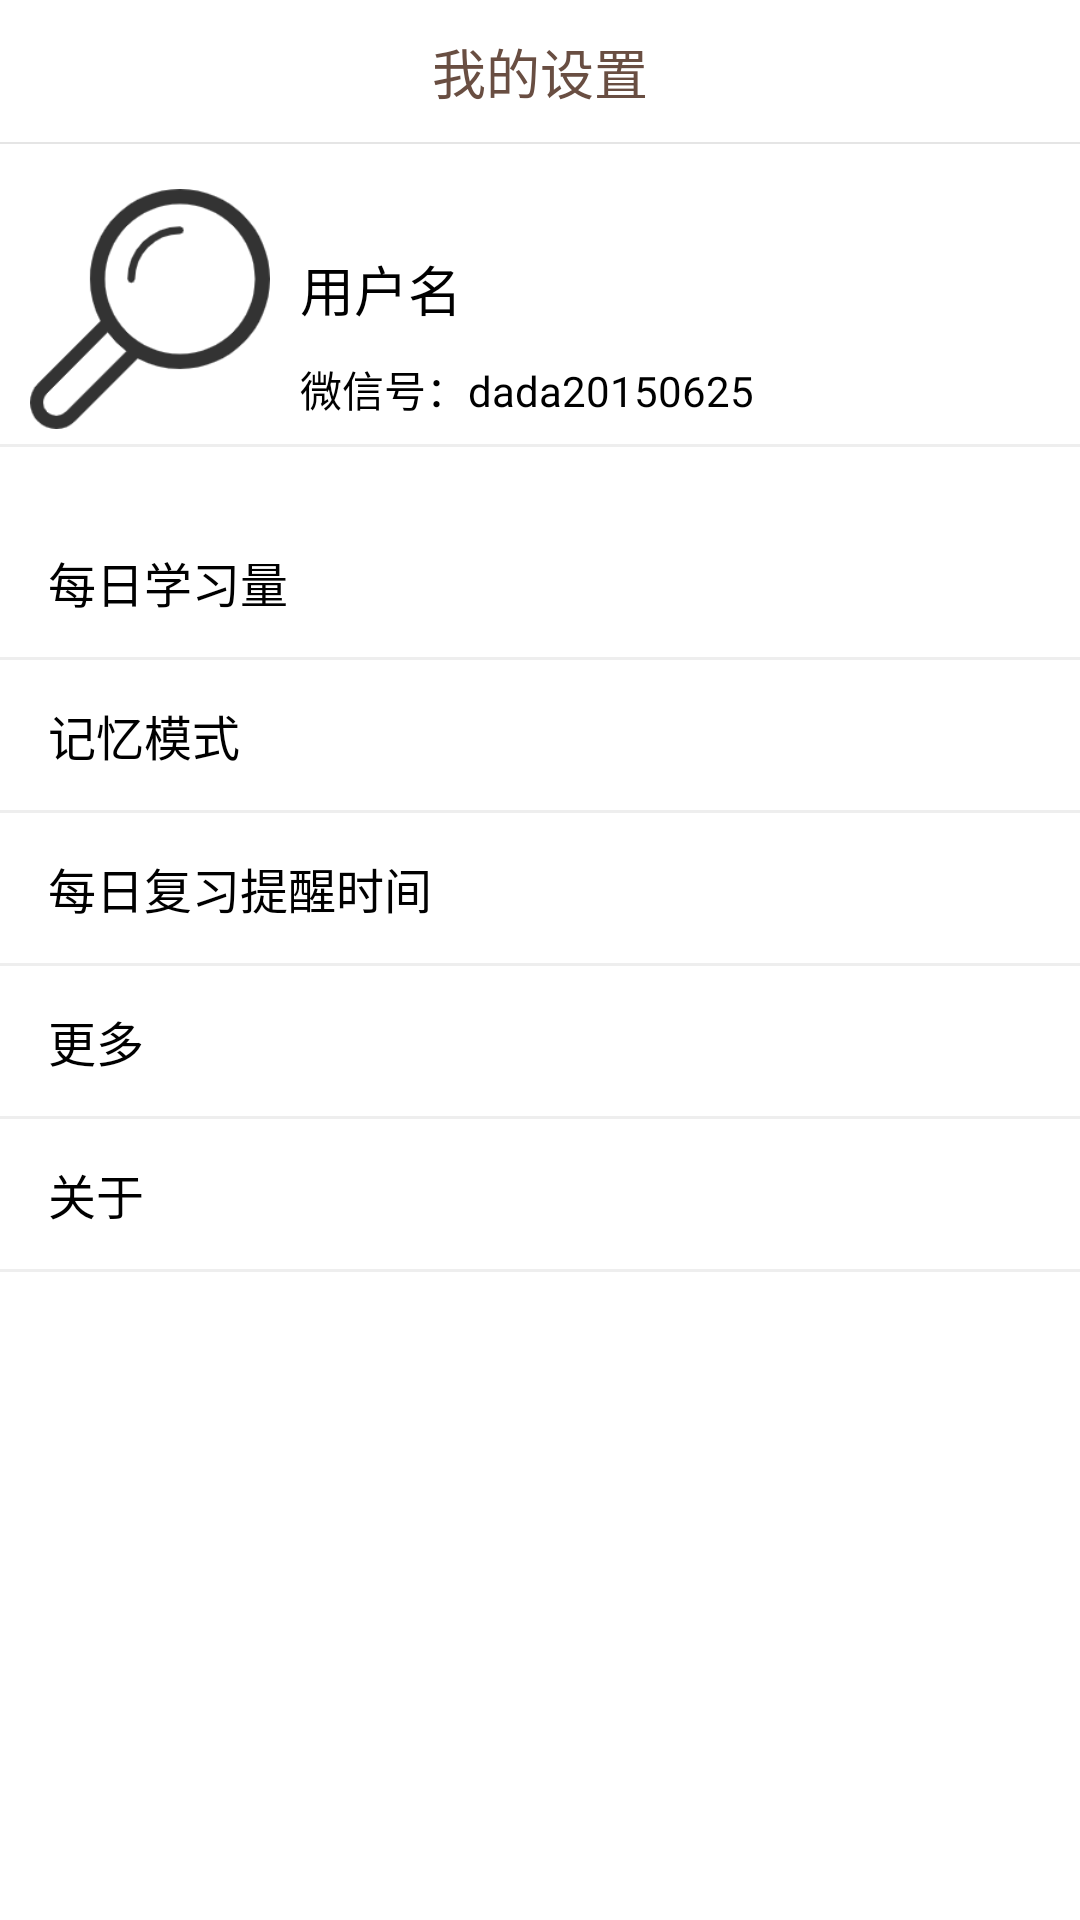

Locate icon controls on the screen. Image size 1080x1920, boxes as region(x1, y1, x2, y2).
search: region(30, 189, 270, 429)
